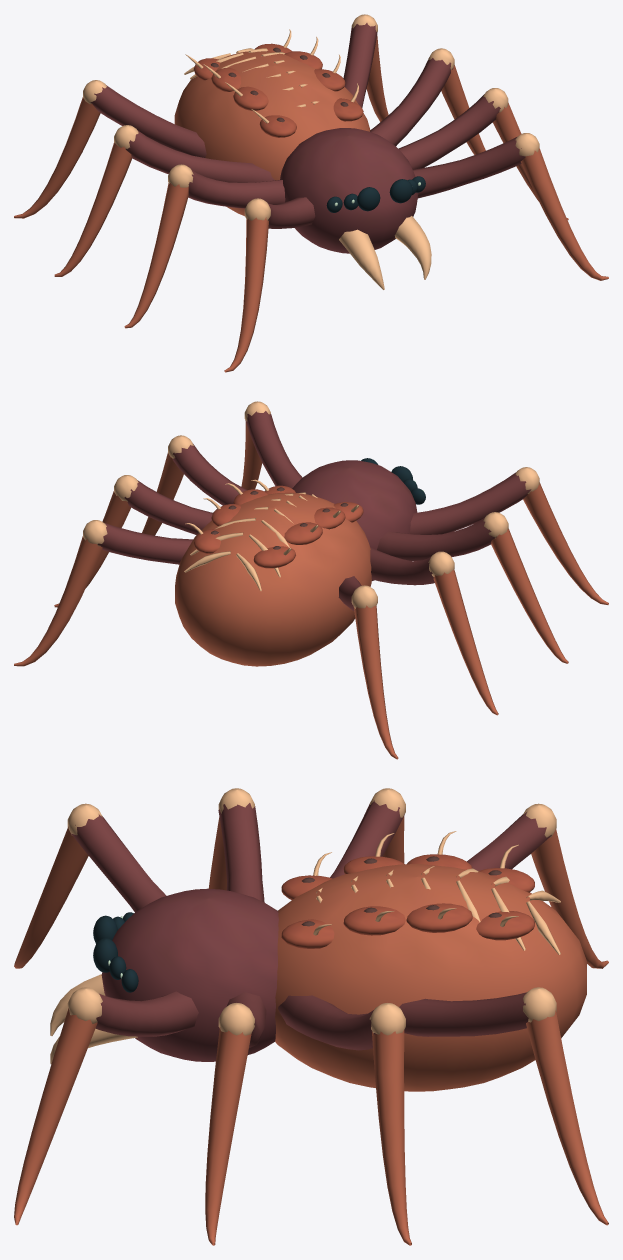
File: mite.glb
3 views of the same model, one above another, from view 1: azimuth 30°, elevation 25°; view 2: azimuth 150°, elevation 25°; view 3: azimuth 270°, elevation 25° (orthographic). The views are drawn at different scales.
Parts seen in each view (by area): view 1: body, leg_-1_2, leg_1_0, leg_-1_3, leg_-1_1, leg_-1_0, leg_1_2, leg_1_1, leg_1_3, palp_-1, palp_1; view 2: body, leg_-1_0, leg_-1_1, leg_1_3, leg_-1_2, leg_-1_3, leg_1_2, leg_1_1, leg_1_0; view 3: body, leg_1_3, leg_1_0, leg_1_2, leg_-1_0, leg_1_1, leg_-1_3, leg_-1_1, leg_-1_2, palp_-1.
Part boxes in pixels (left/top/right/bottom): body: left=174, top=29, right=425, bottom=253; leg_-1_2: left=54, top=125, right=274, bottom=276; leg_1_0: left=413, top=133, right=608, bottom=280; leg_-1_3: left=14, top=80, right=206, bottom=218; leg_-1_1: left=124, top=164, right=285, bottom=328; leg_-1_0: left=224, top=197, right=315, bottom=372; leg_1_2: left=370, top=48, right=485, bottom=154; leg_1_1: left=398, top=88, right=568, bottom=219; leg_1_3: left=343, top=14, right=388, bottom=121; palp_-1: left=339, top=229, right=384, bottom=289; palp_1: left=394, top=216, right=431, bottom=279; body: left=175, top=458, right=425, bottom=666; leg_-1_0: left=410, top=467, right=608, bottom=604; leg_-1_1: left=377, top=512, right=568, bottom=663; leg_1_3: left=14, top=520, right=193, bottom=666; leg_-1_2: left=370, top=547, right=498, bottom=715; leg_-1_3: left=338, top=576, right=398, bottom=759; leg_1_2: left=54, top=475, right=212, bottom=607; leg_1_1: left=142, top=435, right=247, bottom=535; leg_1_0: left=241, top=401, right=302, bottom=489; body: left=93, top=831, right=586, bottom=1091; leg_1_3: left=399, top=987, right=608, bottom=1225; leg_1_0: left=14, top=987, right=198, bottom=1225; leg_1_2: left=278, top=995, right=411, bottom=1245; leg_-1_0: left=14, top=803, right=166, bottom=968; leg_1_1: left=205, top=992, right=266, bottom=1245; leg_-1_3: left=466, top=803, right=608, bottom=968; leg_-1_1: left=208, top=788, right=264, bottom=902; leg_-1_2: left=330, top=788, right=405, bottom=878; palp_-1: left=50, top=974, right=105, bottom=1035.
Bounding box in the file's own units: 2.71 × 0.9388 × 2.25.
